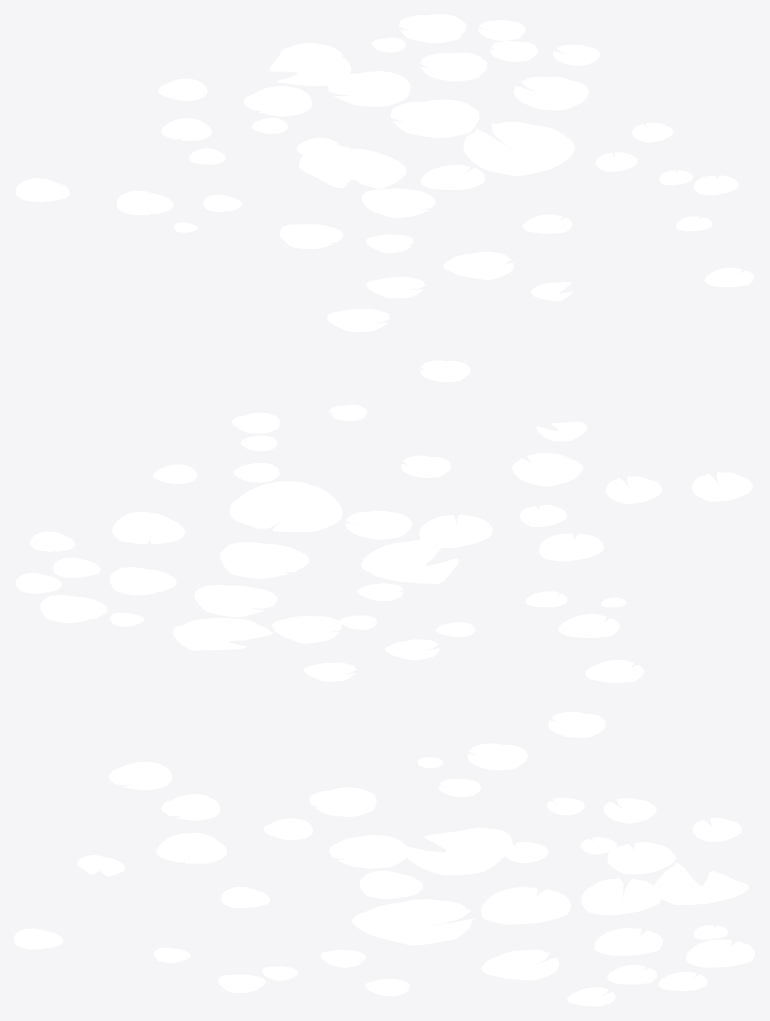
3 views of the same model, one above another, from view 1: azimuth 30°, elevation 25°; view 2: azimuth 150°, elevation 25°; view 3: azimuth 270°, elevation 25° (orthographic). The views are drawn at different scales.
Visible parts, largest first — view 1: SM_WaterLily_03_LOD0; view 2: SM_WaterLily_03_LOD0; view 3: SM_WaterLily_03_LOD0.
Boxes of the visible parts, left/top/right/bottom form: SM_WaterLily_03_LOD0: left=15, top=14, right=753, bottom=331; SM_WaterLily_03_LOD0: left=16, top=360, right=752, bottom=682; SM_WaterLily_03_LOD0: left=14, top=711, right=754, bottom=1006.
Bounding box in the file's own units: 4.97 × 0.0998 × 5.28.
Materials: 1 (1 with a texture image).
